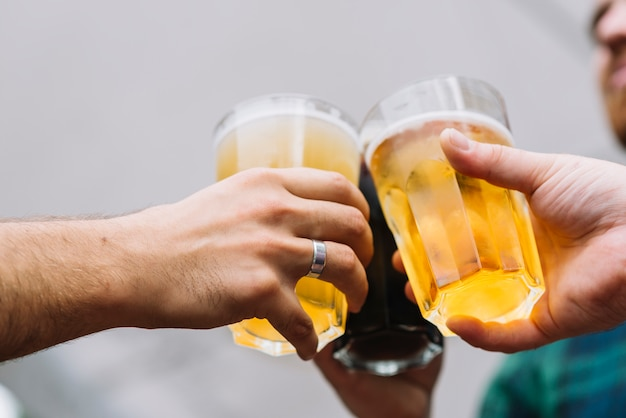alcohol: (357, 79, 549, 337), (210, 93, 364, 357)
